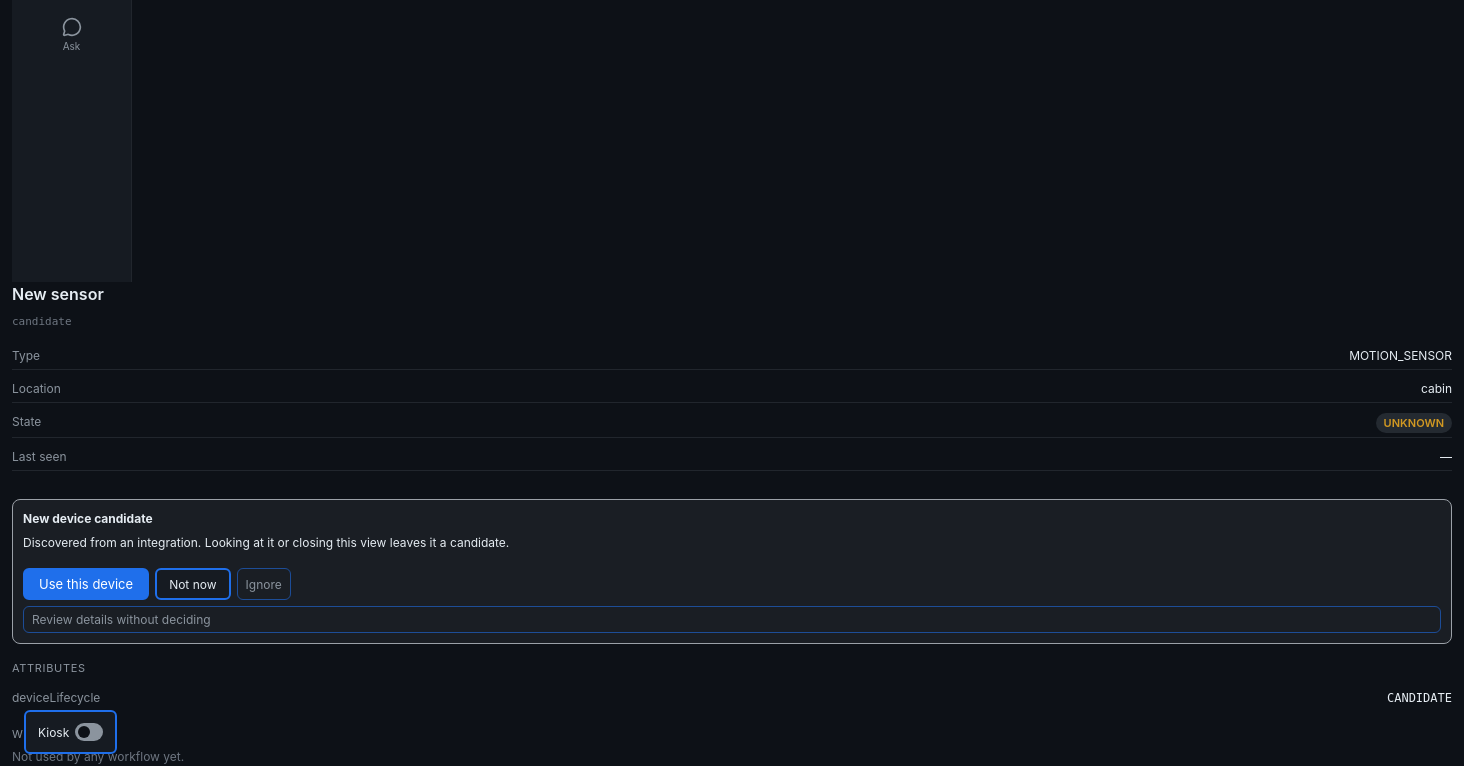
Device candidate decision controls › sends an explicit ACCEPT decision when Use this device is chosen
This screenshot has width=1464, height=766.
(page scrolled)
Click the button "Use this device" at point(86, 584), box [23,568,149,600]
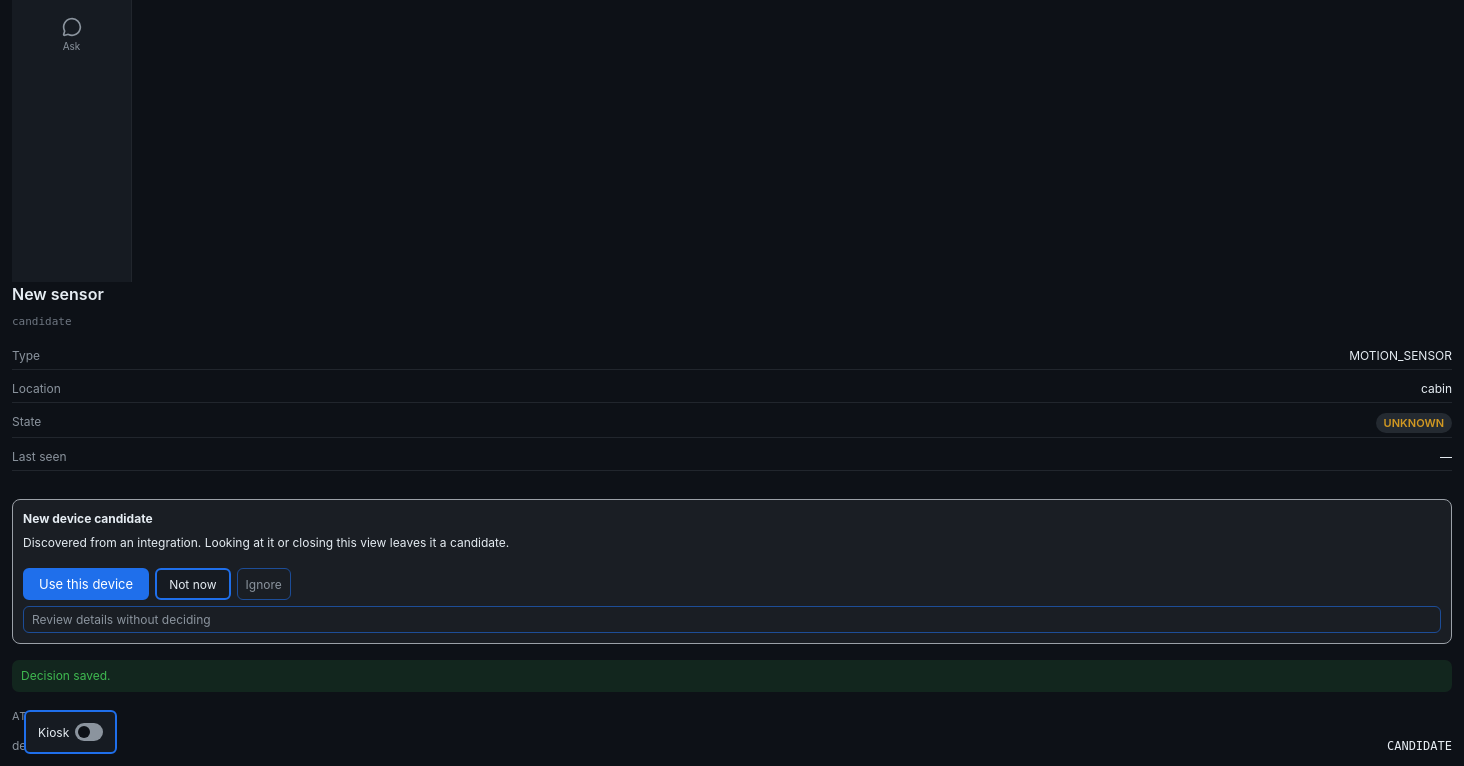
Now the text "Decision saved." is shown, box [12,660,1452,692]
